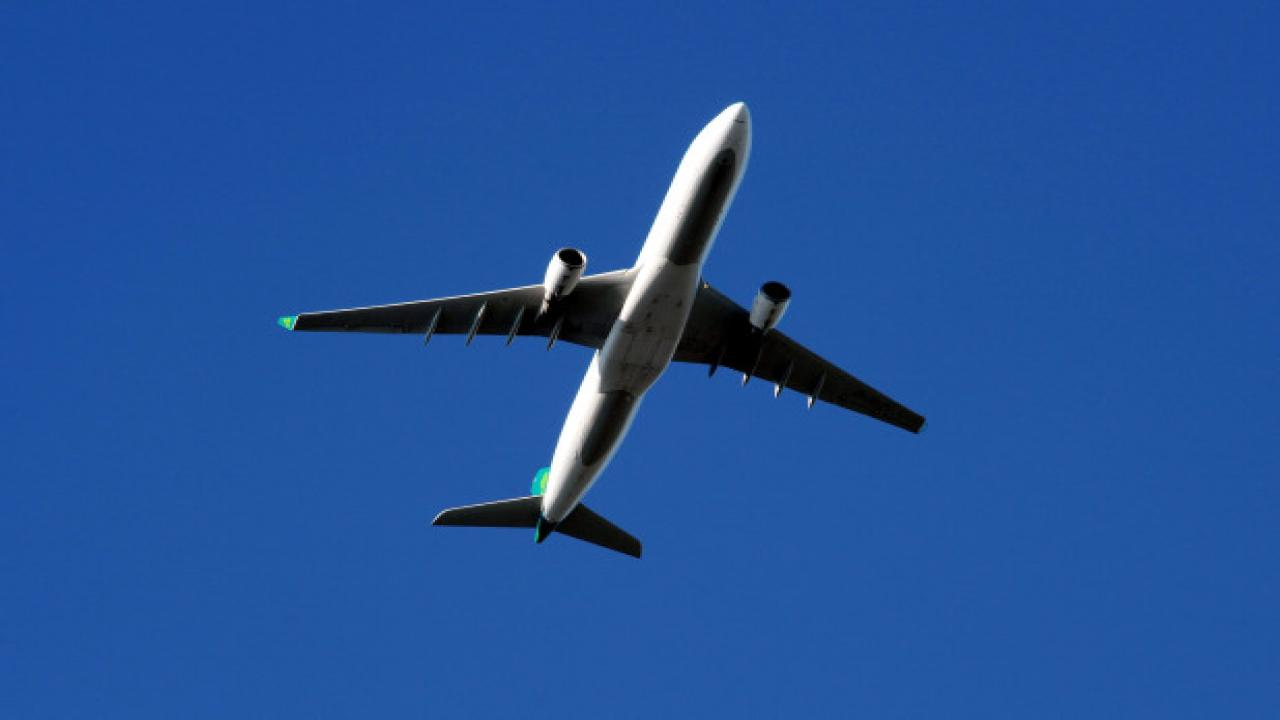Airplane: (263, 86, 940, 571)
